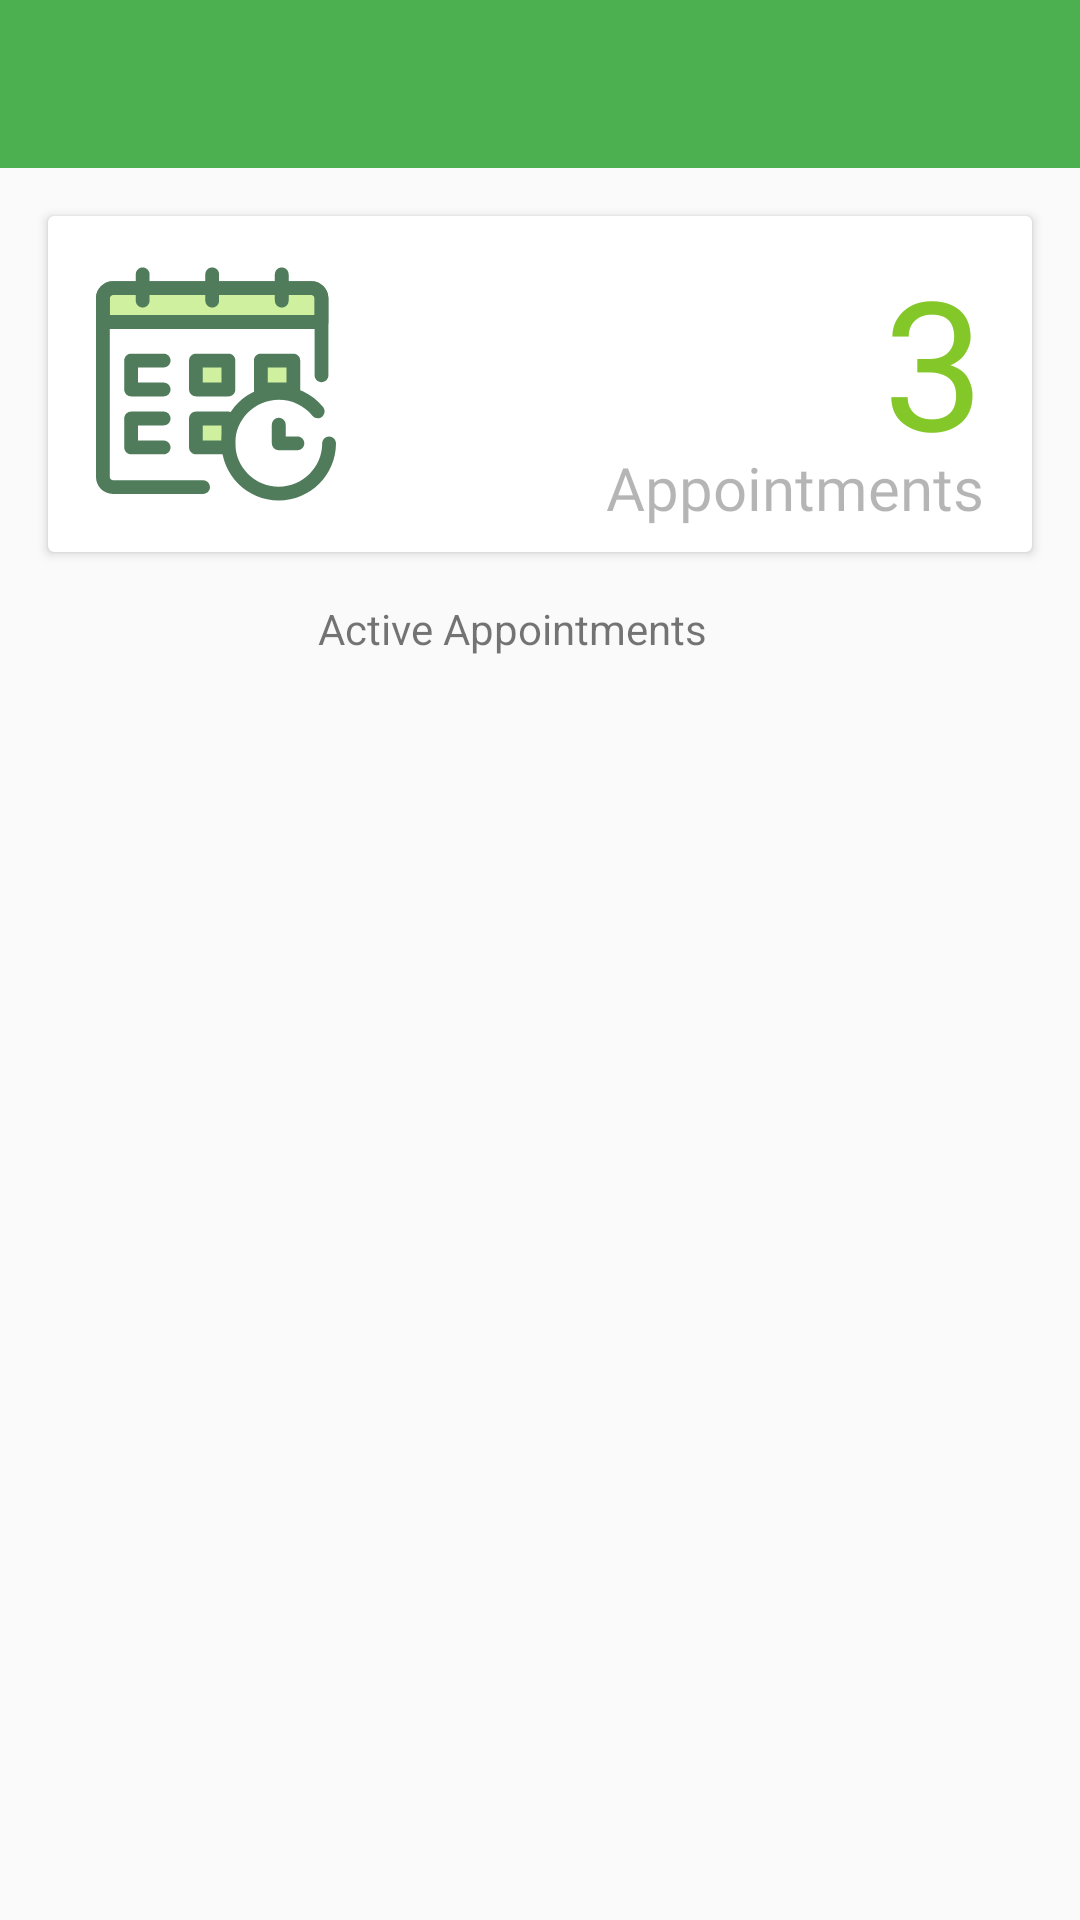

Screen size 1080*1920. Icon name, then its center in pixels as (x,y):
calendar: (216,384)
